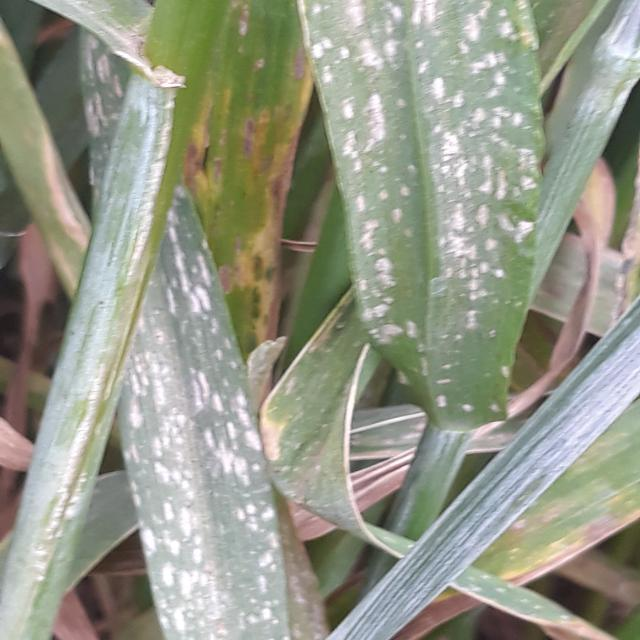powder_mildew: (6, 0, 341, 640), (343, 4, 639, 443), (333, 460, 640, 639)
